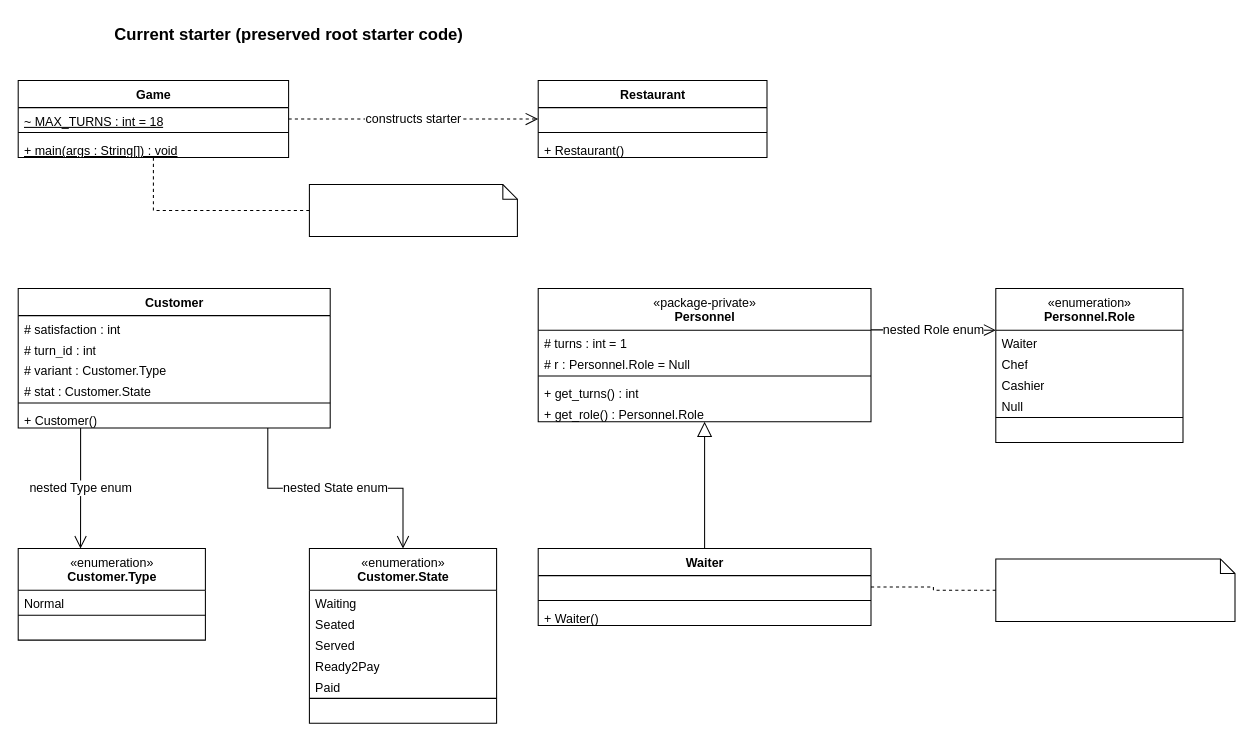
Image size: 1253x742. Some labels were removed from this diagram. Here are the shapes that lost their labels. From the top down, the centre of each, then its label:
the point at 412,210: Launches a diagnostic only; no turn loop
the point at 1115,589: No actions implemented; inherited role remains Null
